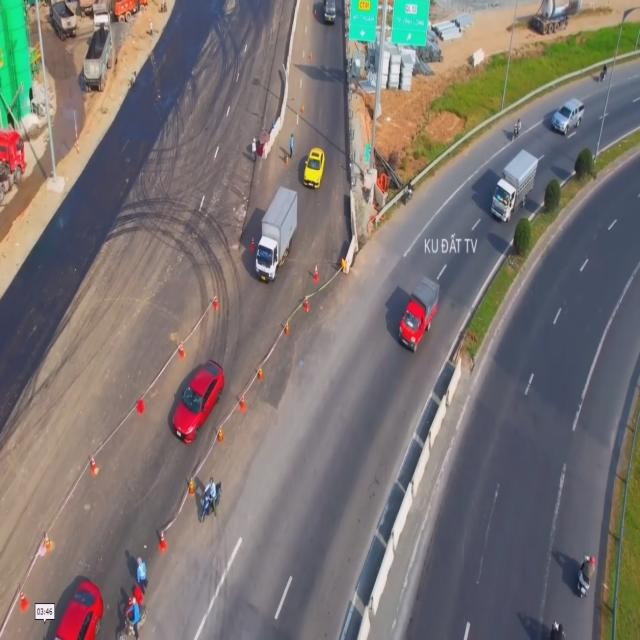car: (171, 355, 224, 445), (57, 572, 109, 640), (551, 96, 585, 138), (304, 147, 324, 190)
motorbike: (196, 477, 222, 526), (115, 602, 146, 639), (577, 554, 595, 602), (513, 116, 521, 138)
truck: (256, 180, 296, 280), (490, 147, 538, 224), (397, 272, 438, 352)
